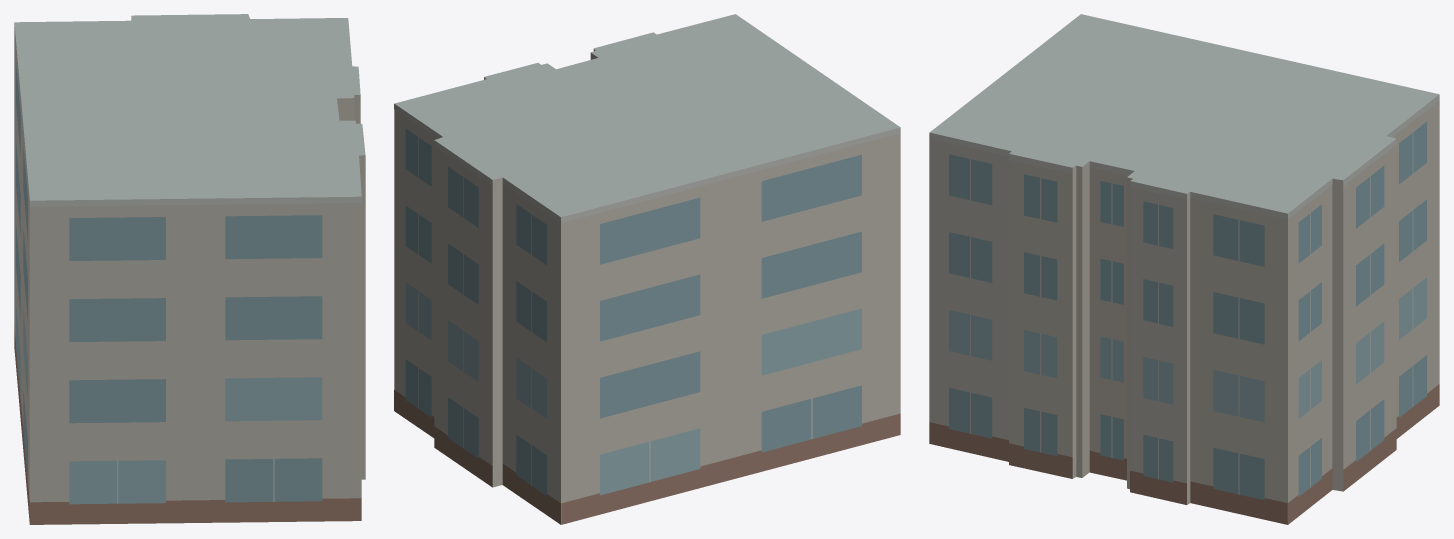
Rendered from survey-upis-32976424.glb.
The picture shows the model from 3 angles, left to right: view 1: azimuth 30°, elevation 25°; view 2: azimuth 150°, elevation 25°; view 3: azimuth 270°, elevation 25°; orthographic projection. The views are drawn at different scales.
Visible parts, largest first — view 1: survey-upis-32976424.tmp; view 2: survey-upis-32976424.tmp; view 3: survey-upis-32976424.tmp.
Boxes of the visible parts, left/top/right/bottom form: survey-upis-32976424.tmp: left=14, top=14, right=365, bottom=524; survey-upis-32976424.tmp: left=394, top=14, right=900, bottom=524; survey-upis-32976424.tmp: left=929, top=14, right=1439, bottom=524.
Size of the model in its own units: 17.62 by 12.8 by 19.02.
